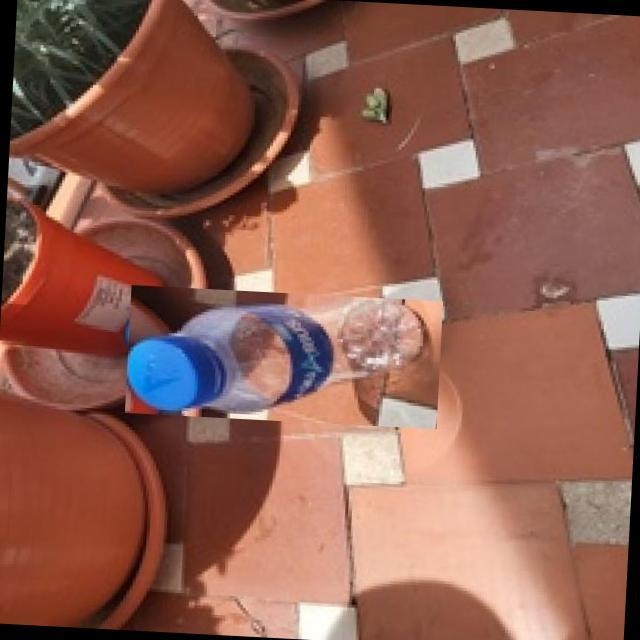good: (124, 285, 442, 429)
